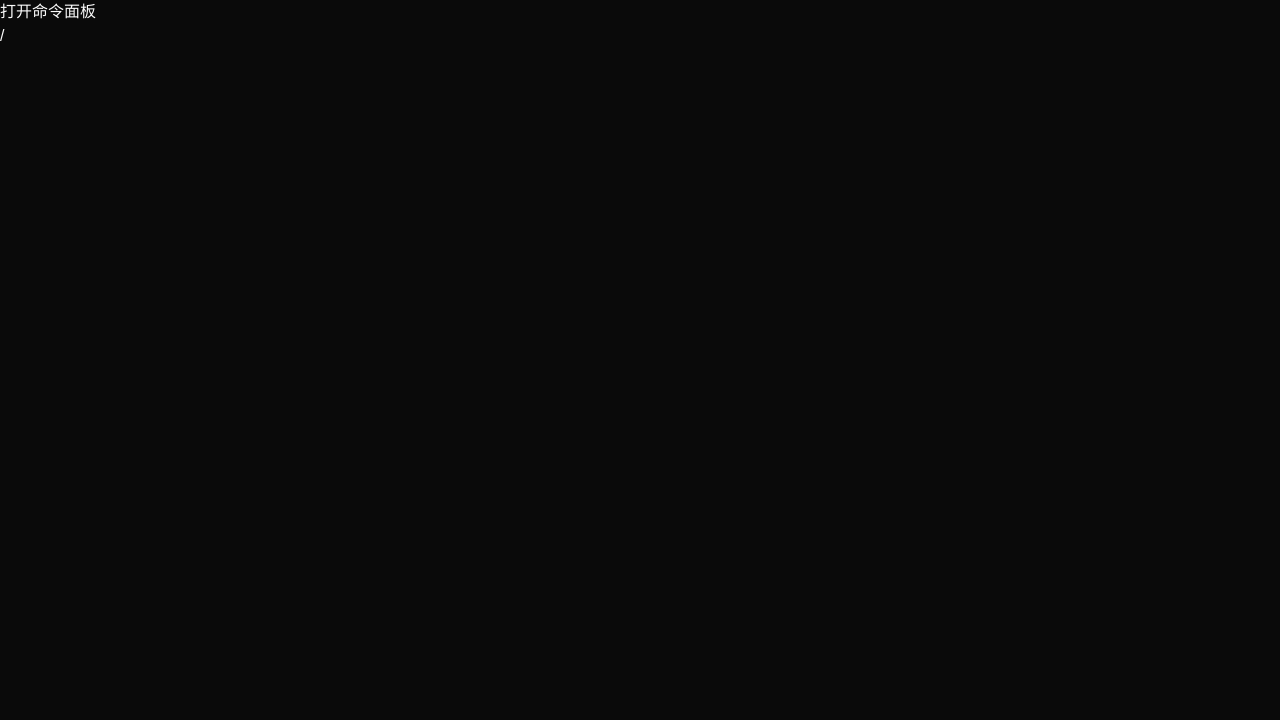
it: CommandPalette › 输入后 Enter 直接执行唯一命中项（不用先按 ↓）
This screenshot has width=1280, height=720.
Step 1. Press k
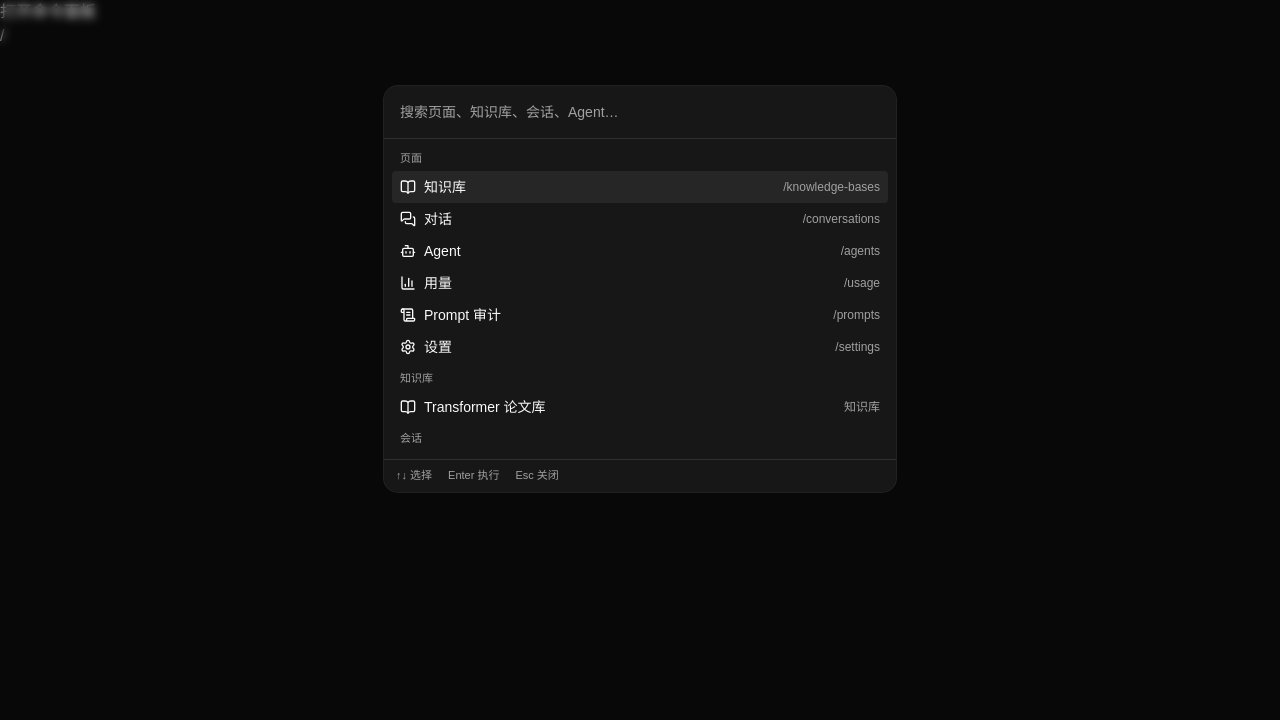
Step 2. Type "设置" into the dropdown named "搜索命令" → (640,112), box [392,94,888,130]
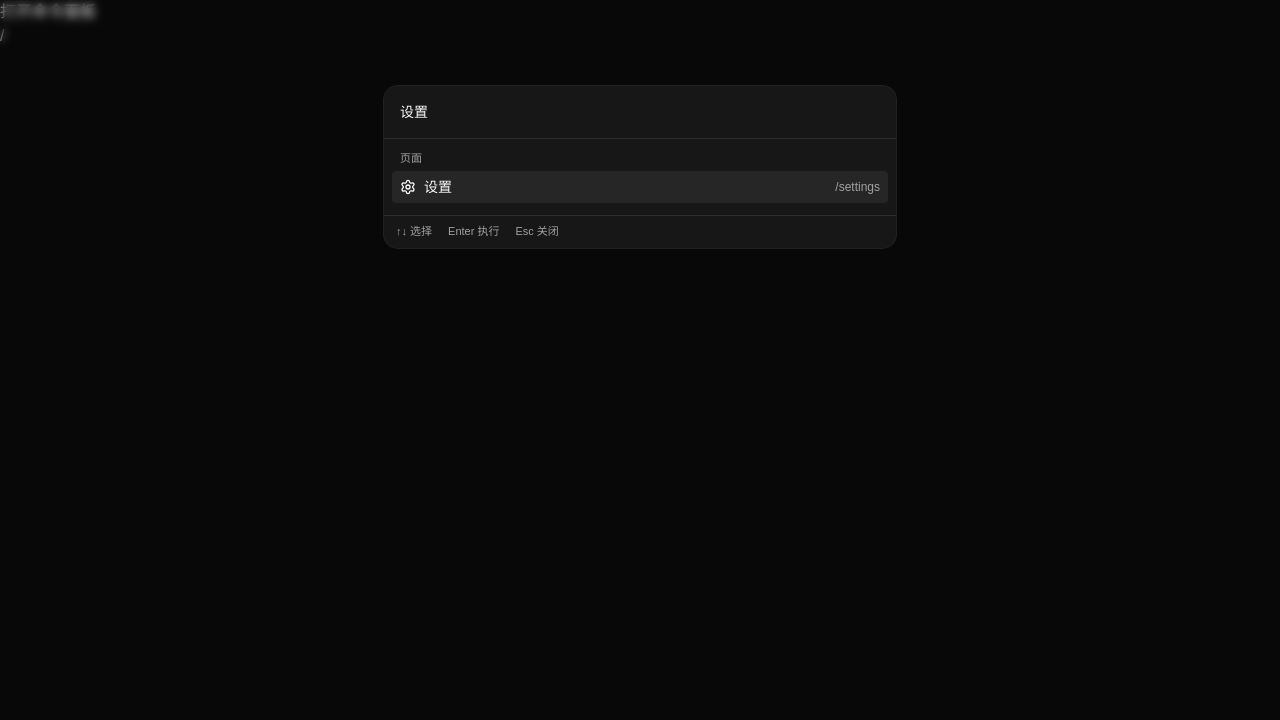
Step 3. Press Enter in the dropdown named "搜索命令", box [392,94,888,130]
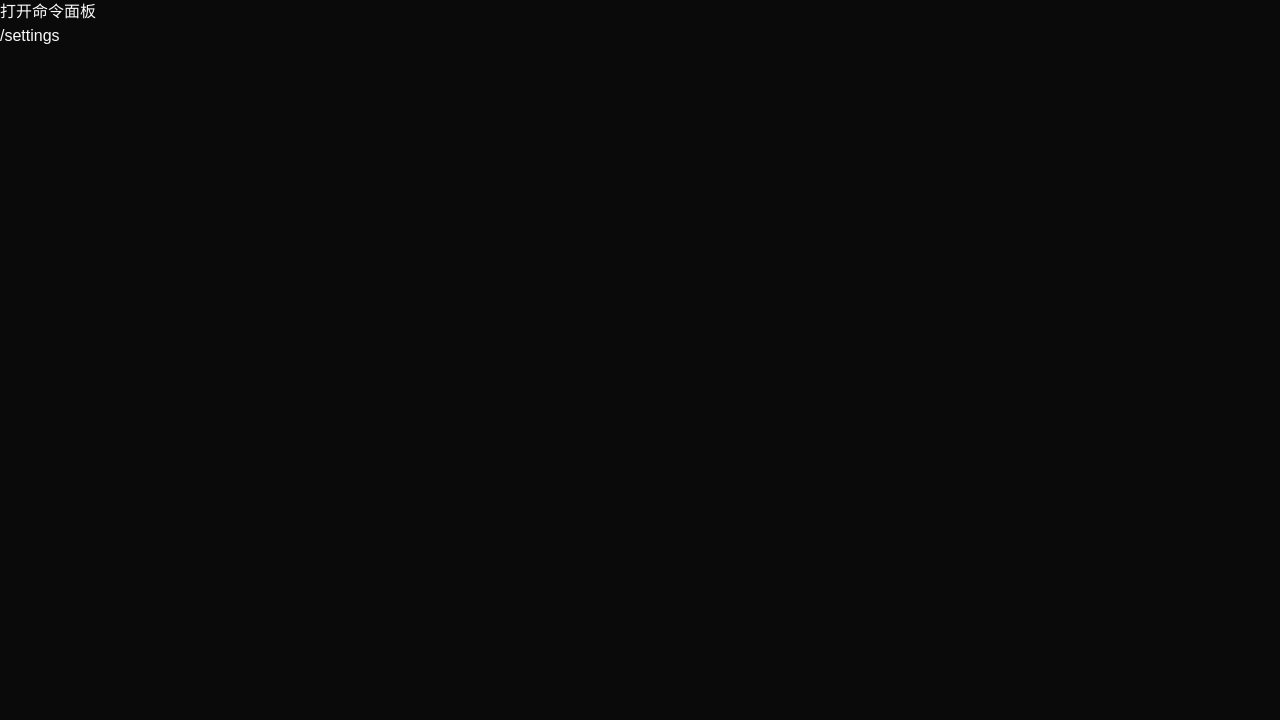
Now the text with test id "location" reads "/settings", box [0,27,60,44]
